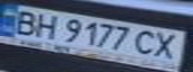1: (78, 19, 100, 47)
7: (93, 20, 115, 50), (112, 24, 133, 52)
9: (57, 16, 84, 44)
B: (6, 7, 42, 36)
C: (133, 28, 160, 57)
H: (30, 10, 63, 39)
X: (151, 30, 187, 61)
